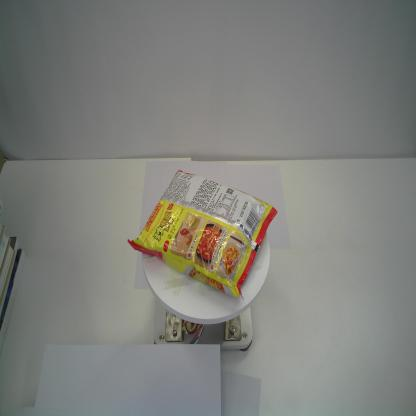Instant Noodles: (126, 169, 278, 300)
